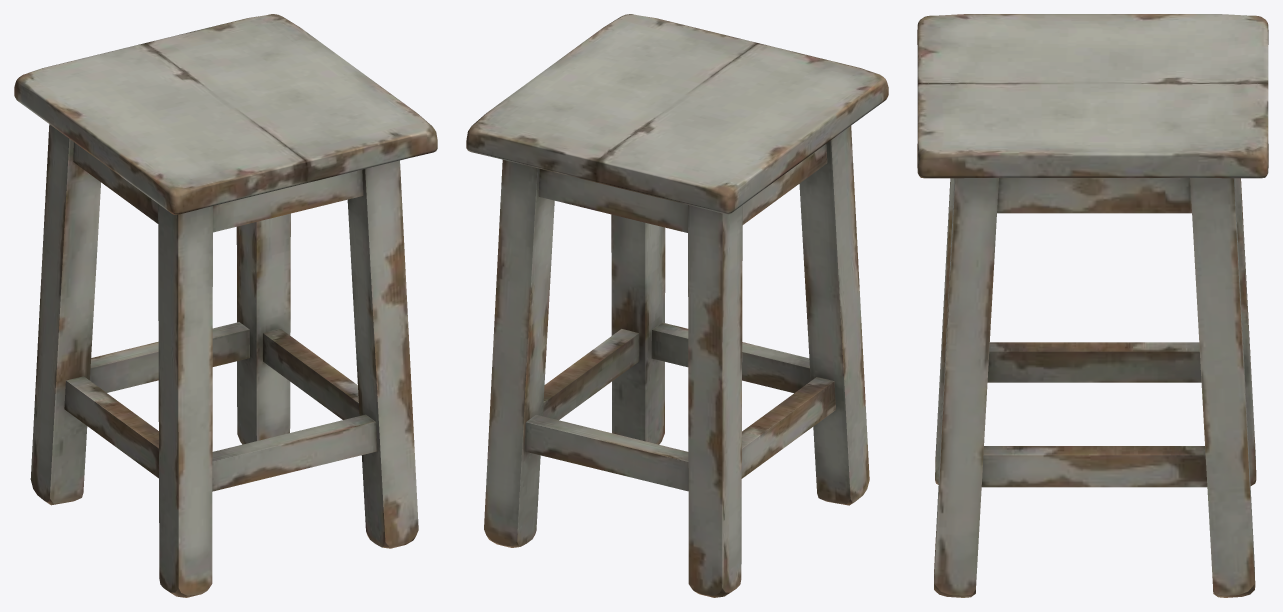
The model's file is painted_wooden_stool.glb.
3 renders of one model, left to right at view 1: azimuth 30°, elevation 25°; view 2: azimuth 150°, elevation 25°; view 3: azimuth 270°, elevation 25°, orthographic. The views are drawn at different scales.
Parts seen in each view (by area): view 1: painted_wooden_stool; view 2: painted_wooden_stool; view 3: painted_wooden_stool.
Boxes of the visible parts, left/top/right/bottom form: painted_wooden_stool: left=14, top=14, right=437, bottom=597; painted_wooden_stool: left=466, top=14, right=888, bottom=597; painted_wooden_stool: left=917, top=14, right=1268, bottom=597.
Size of the model in its own units: 0.3848 by 0.5789 by 0.406.
Materials: 1 (1 with a texture image).
